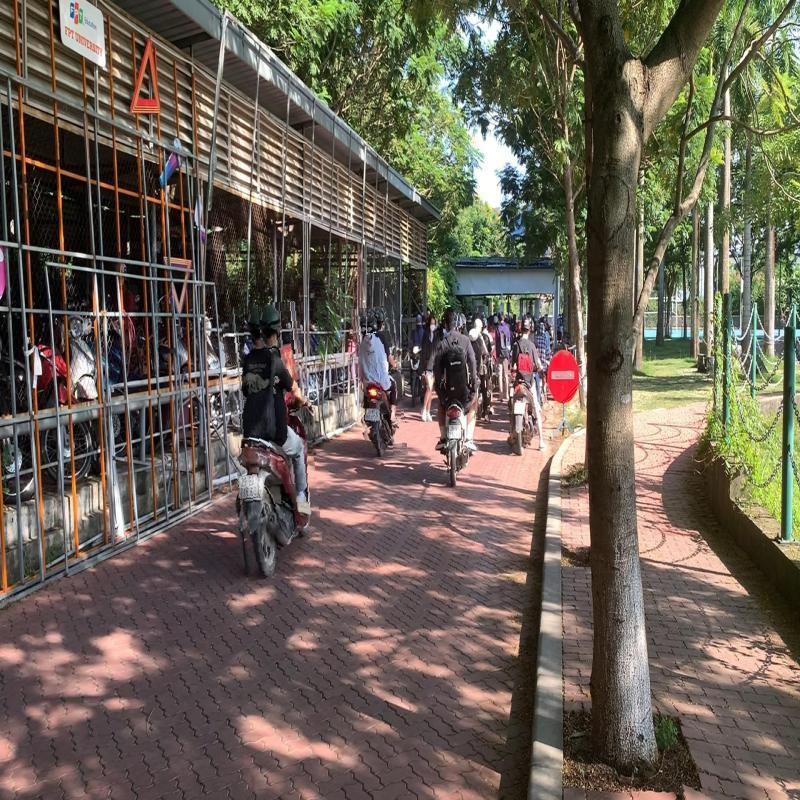helmet: (260, 302, 282, 349), (375, 308, 385, 331), (366, 314, 378, 333)
licenseplate: (239, 474, 260, 500), (448, 424, 462, 440), (365, 408, 377, 422)
motorcyclist: (228, 303, 320, 580), (432, 306, 482, 490), (356, 306, 404, 458)
nohelmet: (444, 308, 458, 334)
